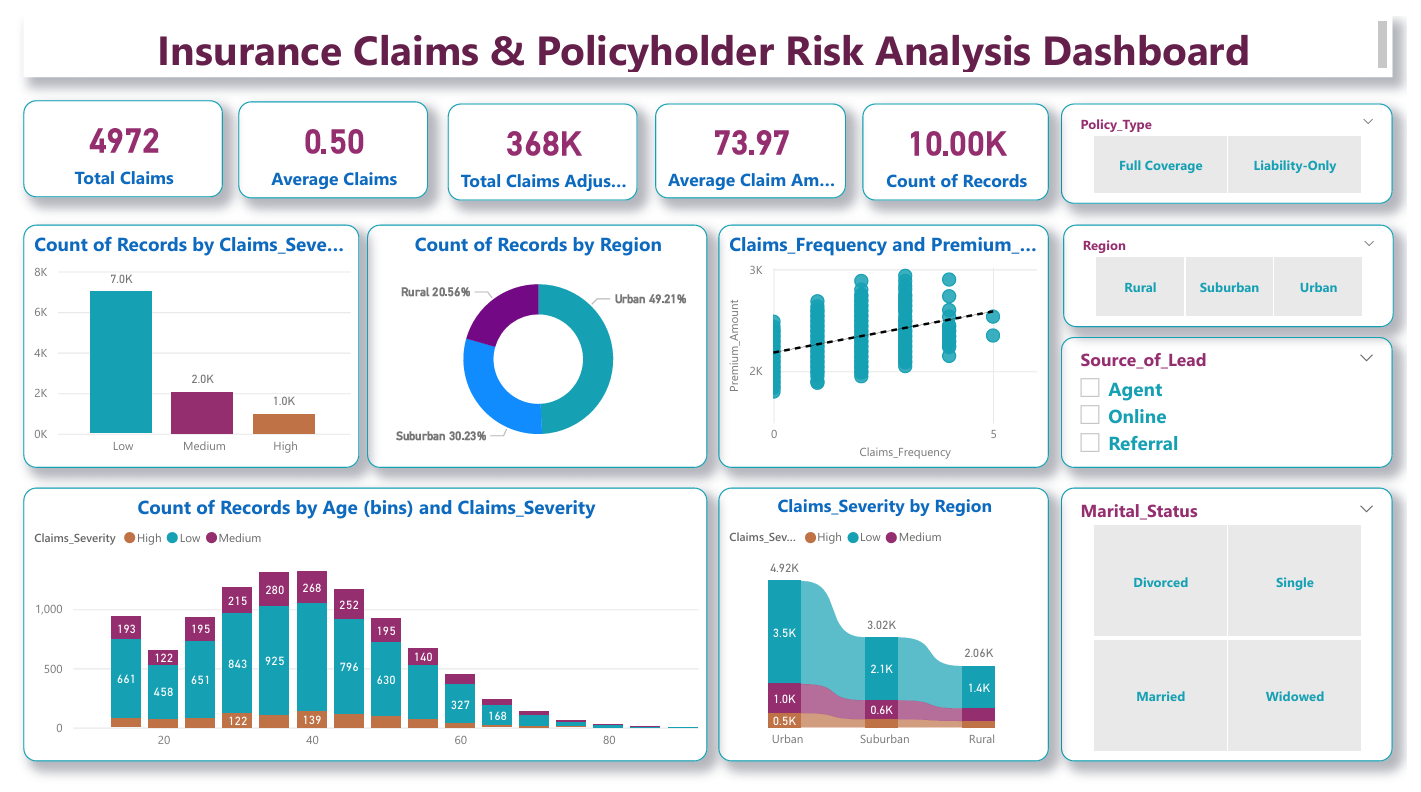

The page's visual inventory and layout, read from the dashboard file:
{"tool":"powerbi","page":{"name":"Page 1","canvas":[1280,720],"ordinal":0},"visuals":[{"type":"textbox","box":[12.3,0,1254.2,56.3],"z":0},{"type":"card","fields":{"Values":["Sum(synthetic_insurance_data.Claims_Frequency)"]},"box":[12.3,76.8,182.5,89.2],"z":1000},{"type":"card","fields":{"Values":["Avg(synthetic_insurance_data.Claims_Frequency)"]},"box":[208.6,78.2,174.3,89.2],"z":2000},{"type":"card","fields":{"Values":["Sum(synthetic_insurance_data.Claims_Adjustment)"]},"box":[400.7,79.6,174.3,89.2],"z":3000},{"type":"columnChart","fields":{"Category":["synthetic_insurance_data.Claims_Severity"],"Y":["Count(synthetic_insurance_data.Index)"]},"box":[12.3,190.7,307.4,223.7],"z":4000},{"type":"columnChart","fields":{"Y":["Count(synthetic_insurance_data.Index)"],"Category":["synthetic_insurance_data.Age (bins)"],"Series":["synthetic_insurance_data.Claims_Severity"]},"box":[12.3,432.2,627.1,251.1],"z":5000},{"type":"donutChart","fields":{"Y":["Count(synthetic_insurance_data.Index)"],"Category":["synthetic_insurance_data.Region"]},"box":[326.6,190.7,312.9,223.7],"z":6000},{"type":"card","fields":{"Values":["synthetic_insurance_data.Average Claim Amount"]},"box":[591.4,79.6,174.3,87.8],"z":6002},{"type":"scatterChart","fields":{"X":["synthetic_insurance_data.Claims_Frequency"],"Y":["synthetic_insurance_data.Premium_Amount"]},"box":[649.1,190.7,303.3,223.7],"z":6003},{"type":"slicer","fields":{"Values":["synthetic_insurance_data.Policy_Type"]},"box":[963.3,79.6,303.3,91.9],"z":6004},{"type":"card","fields":{"Values":["Count(synthetic_insurance_data.Index)"]},"box":[780.8,79.6,171.5,89.2],"z":6005},{"type":"slicer","fields":{"Values":["synthetic_insurance_data.Region"]},"box":[964.7,190.7,303.3,94.7],"z":6006},{"type":"slicer","fields":{"Values":["synthetic_insurance_data.Marital_Status"]},"box":[963.3,432.2,303.3,251.1],"z":6007},{"type":"slicer","fields":{"Values":["synthetic_insurance_data.Source_of_Lead"]},"box":[963.3,293.7,303.3,120.8],"z":6008},{"type":"ribbonChart","title":"Claims_Severity by Region","fields":{"Category":["synthetic_insurance_data.Region"],"Series":["synthetic_insurance_data.Claims_Severity"],"Y":["CountNonNull(synthetic_insurance_data.Index)"]},"box":[649.1,432.2,303.3,251.1],"z":6009}]}

Visuals, with their boxes in screenshot pixels (x1, y1, x2, y2), scaled from the page's 1280x720 canvas onto the 1421x792 screenshot:
textbox: [14, 0, 1406, 62]
card - Sum(synthetic_insurance_data.Claims_Frequency): [14, 84, 216, 183]
card - Avg(synthetic_insurance_data.Claims_Frequency): [232, 86, 425, 184]
card - Sum(synthetic_insurance_data.Claims_Adjustment): [445, 88, 638, 186]
columnChart - synthetic_insurance_data.Claims_Severity x Count(synthetic_insurance_data.Index): [14, 210, 355, 456]
columnChart - Count(synthetic_insurance_data.Index) x synthetic_insurance_data.Age (bins): [14, 475, 710, 752]
donutChart - Count(synthetic_insurance_data.Index) x synthetic_insurance_data.Region: [363, 210, 710, 456]
card - synthetic_insurance_data.Average Claim Amount: [657, 88, 850, 184]
scatterChart - synthetic_insurance_data.Claims_Frequency x synthetic_insurance_data.Premium_Amount: [721, 210, 1057, 456]
slicer - synthetic_insurance_data.Policy_Type: [1069, 88, 1406, 189]
card - Count(synthetic_insurance_data.Index): [867, 88, 1057, 186]
slicer - synthetic_insurance_data.Region: [1071, 210, 1408, 314]
slicer - synthetic_insurance_data.Marital_Status: [1069, 475, 1406, 752]
slicer - synthetic_insurance_data.Source_of_Lead: [1069, 323, 1406, 456]
"Claims_Severity by Region" ribbonChart: [721, 475, 1057, 752]
